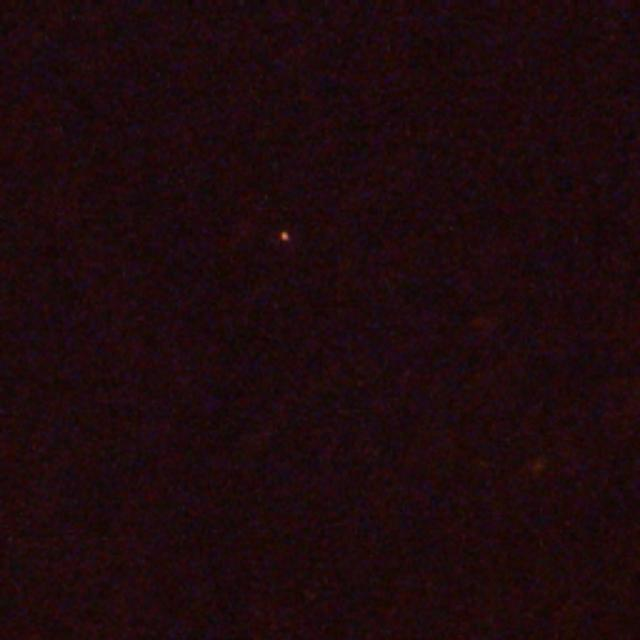Fragment: (274, 230, 296, 242)
